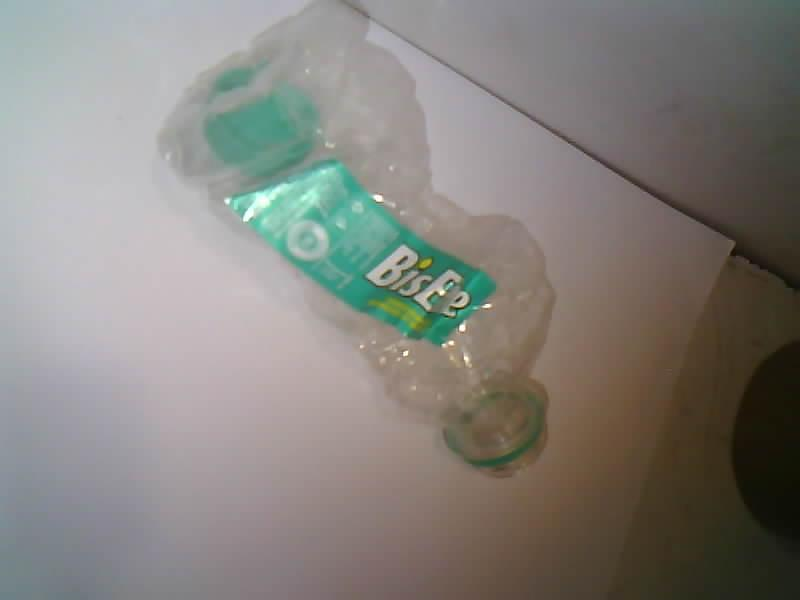non-biodegradable: (159, 0, 553, 475)
